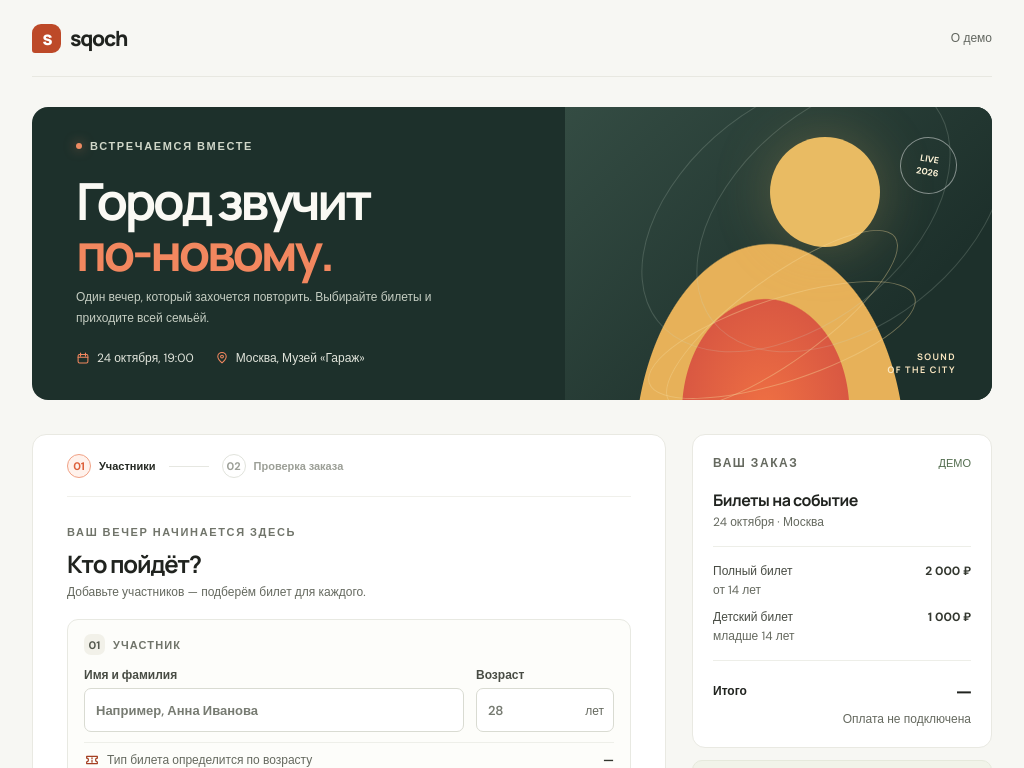
it: ticket booking flow › does not allow an invalid email through the details step
In the field labelled "Имя и фамилия": (274, 710) [84,688,464,732], type "Анна"
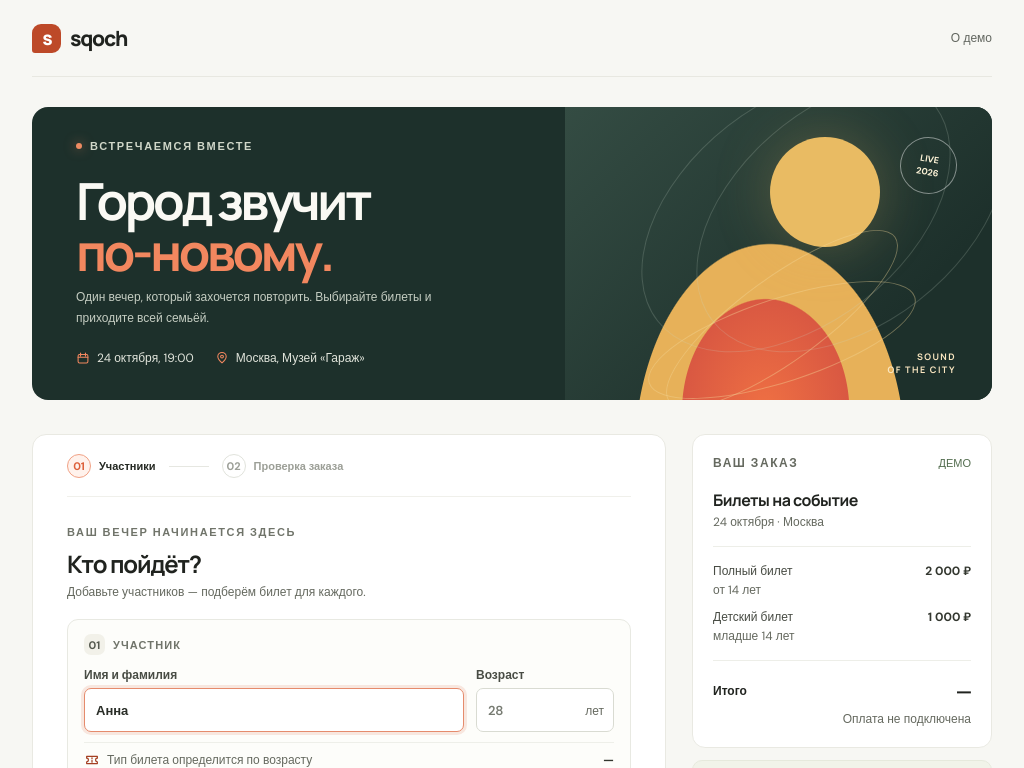
In the field labelled "Возраст": (545, 710) [476,688,614,732], type "30"
(page scrolled)
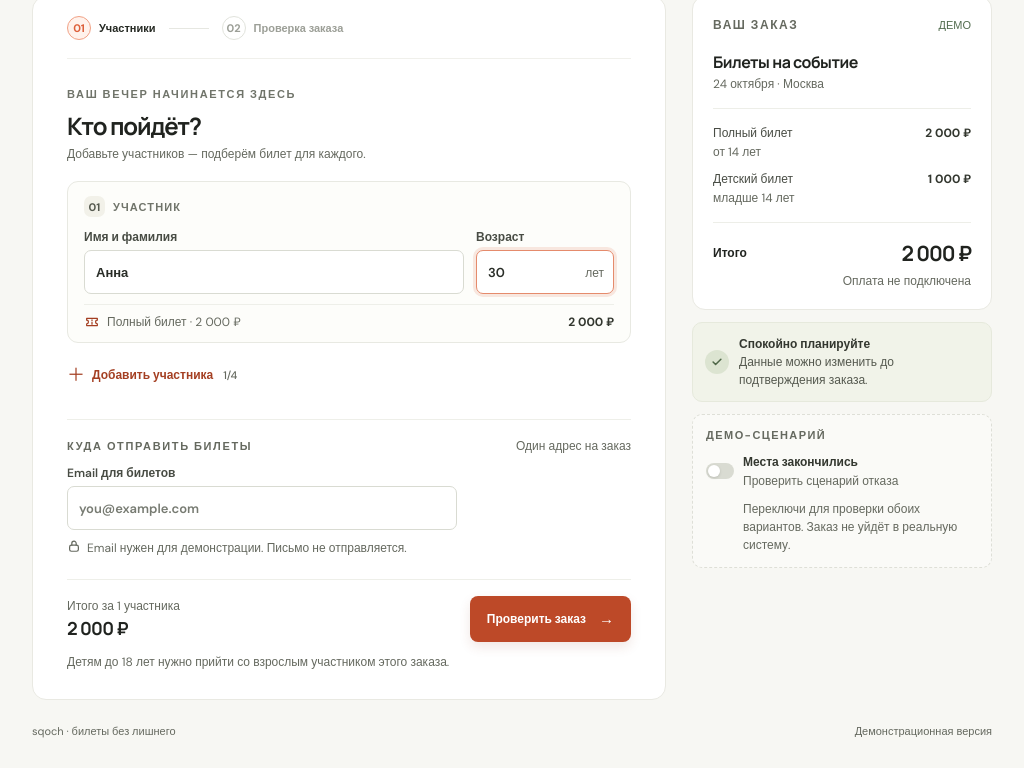
In the field labelled "Email для билетов": (262, 508) [67,486,457,530], type "not-an-email"
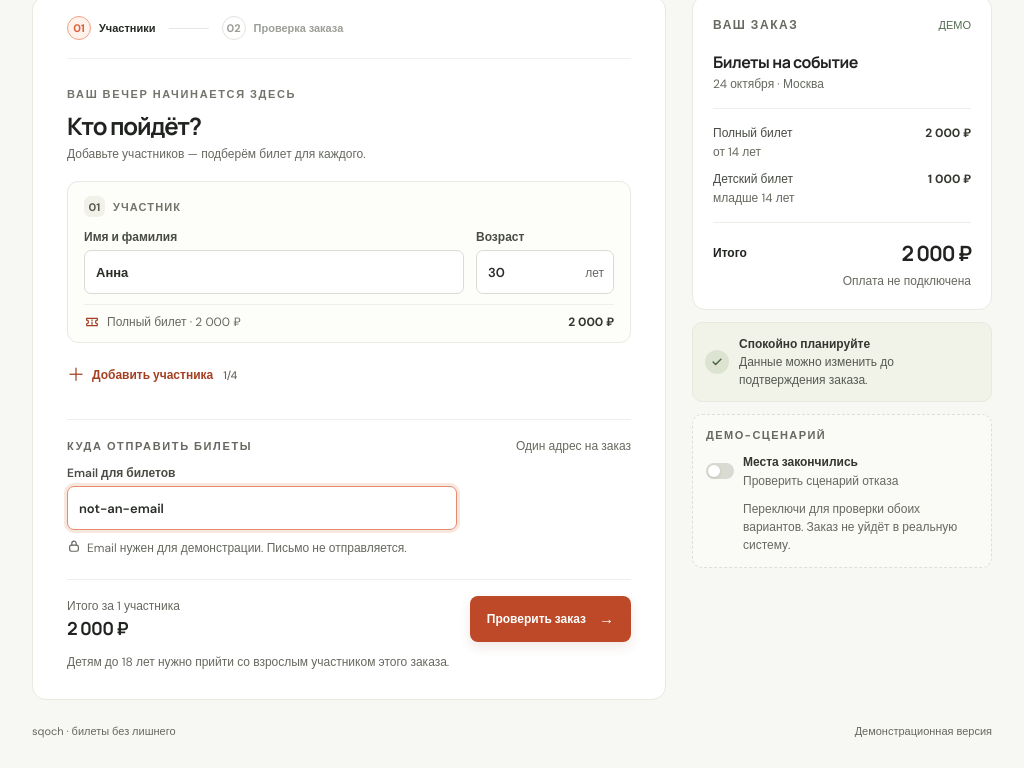
Click the button "Проверить заказ →": (550, 619) [470,596,631,642]
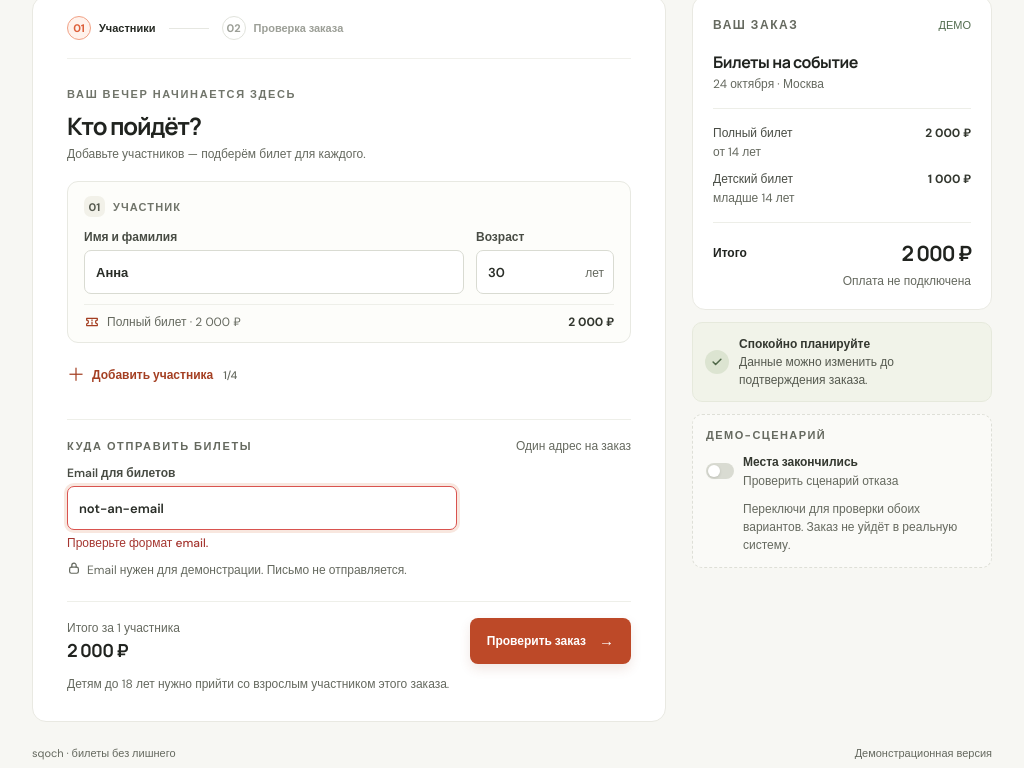
Now the text "Проверьте формат email." is shown, box [67,535,208,551]
